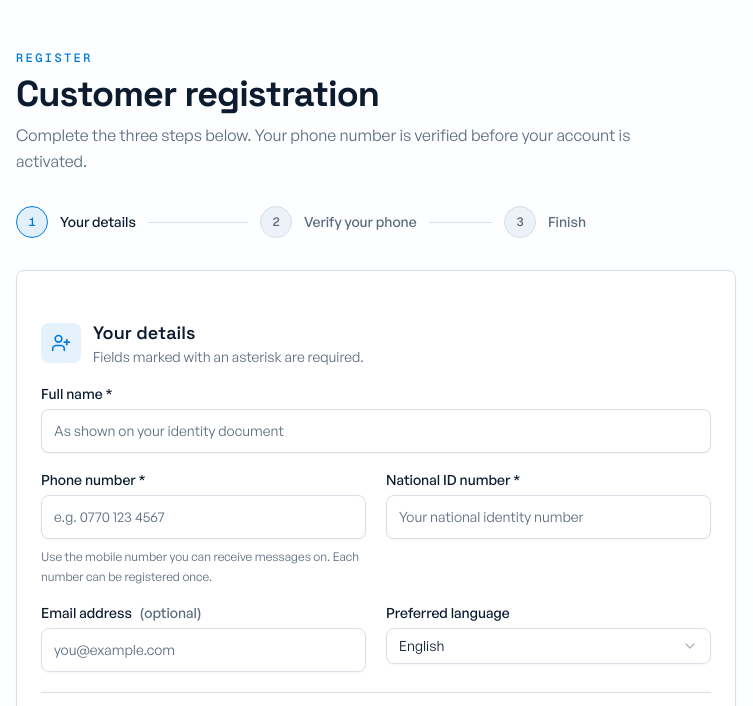
Test: RegisterPage › registers a customer, verifies the code, and completes registration
Type "Ada Lovelace" into the field with test id "register.full_name_input" at [376, 431], box [41, 409, 711, 453]
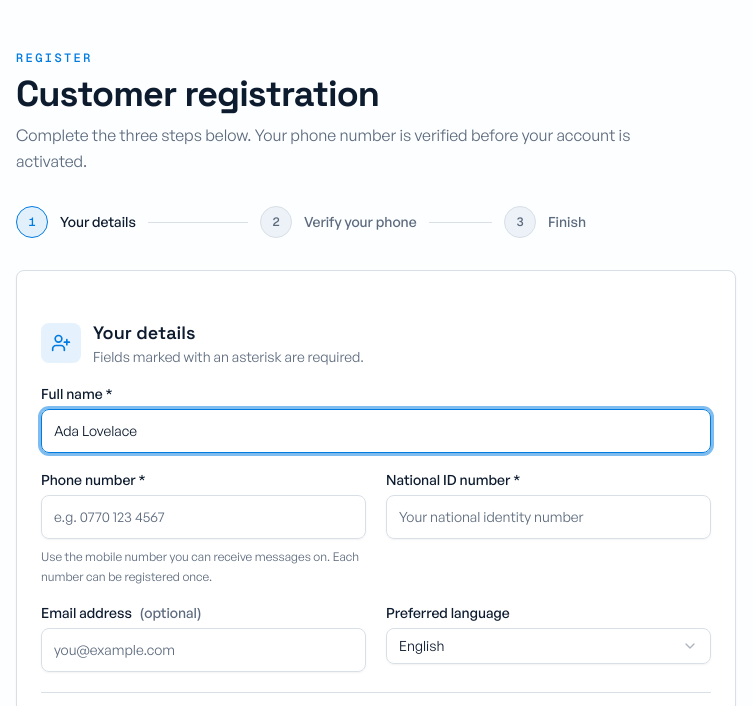
Type "07701234567" into the field with test id "register.phone_input" at [204, 517], box [41, 495, 366, 539]
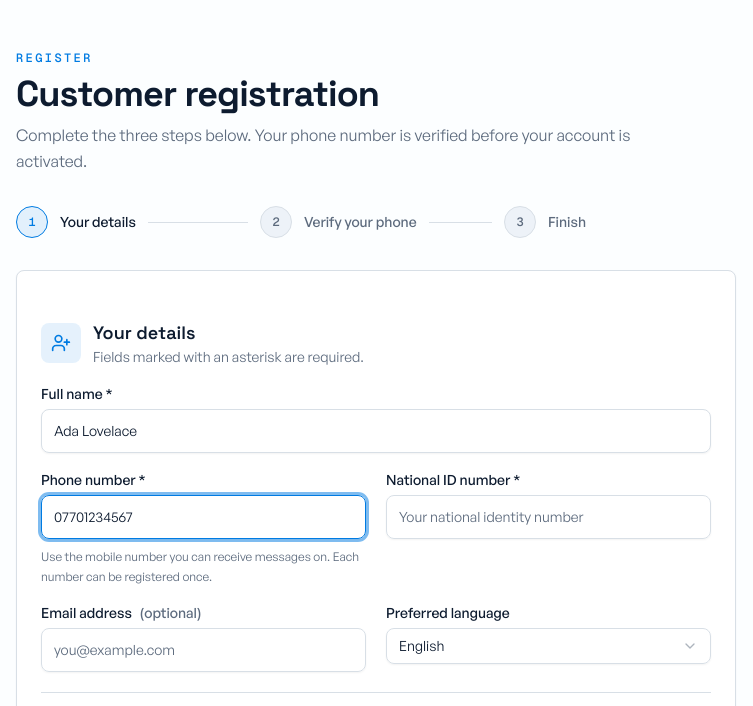
Type "1234567890" into the field with test id "register.national_id_input" at [548, 517], box [386, 495, 711, 539]
(page scrolled)
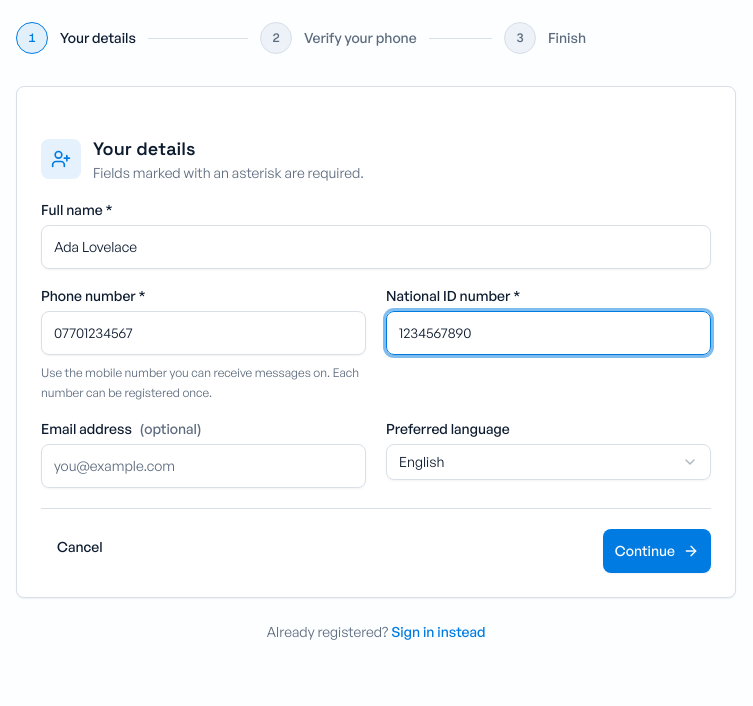
Click the button with test id "register.submit_button" at [657, 551], box [603, 529, 711, 573]
(page scrolled)
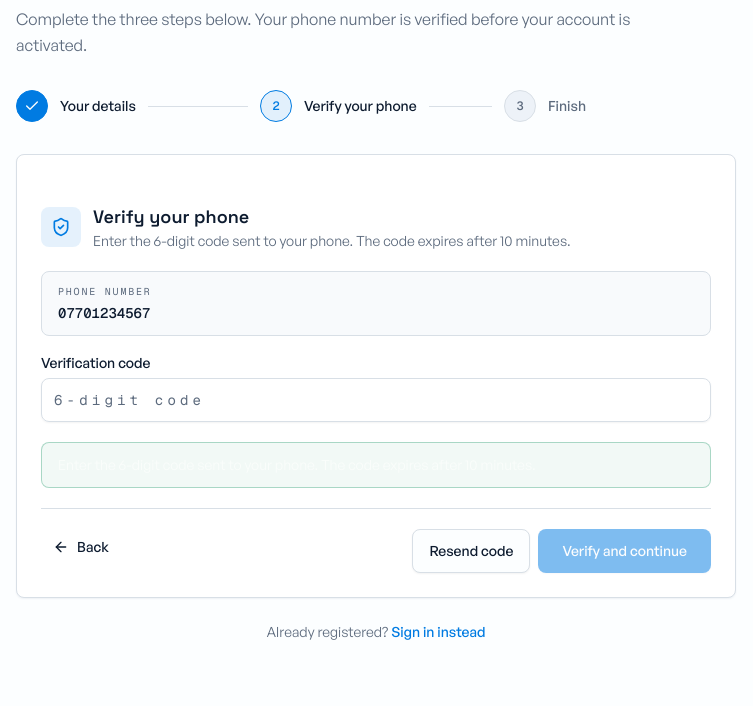
Expected: the field with test id "register.code_input" is shown
Type "123456" into the field with test id "register.code_input" at [376, 400], box [41, 378, 711, 422]
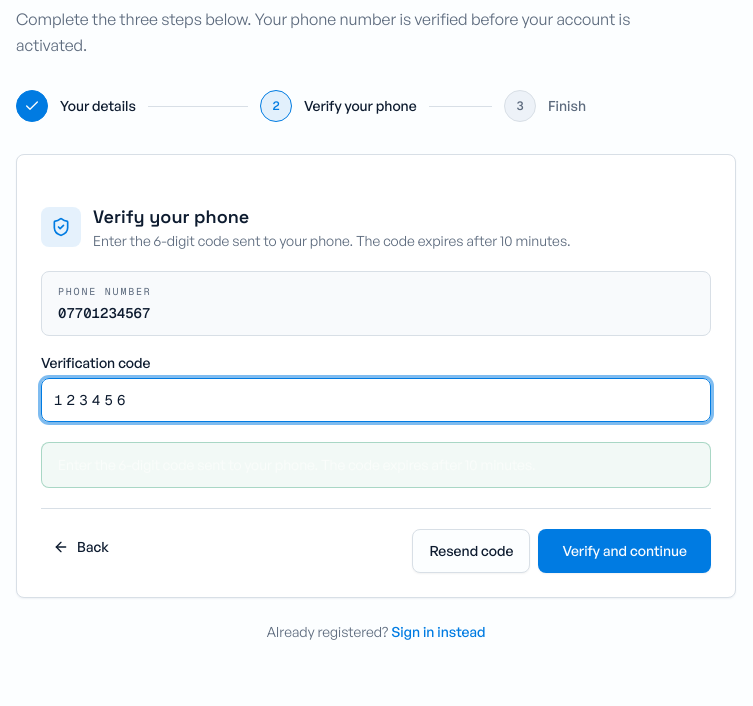
Click the button with test id "register.verify_button" at [625, 551], box [538, 529, 711, 573]
(page scrolled)
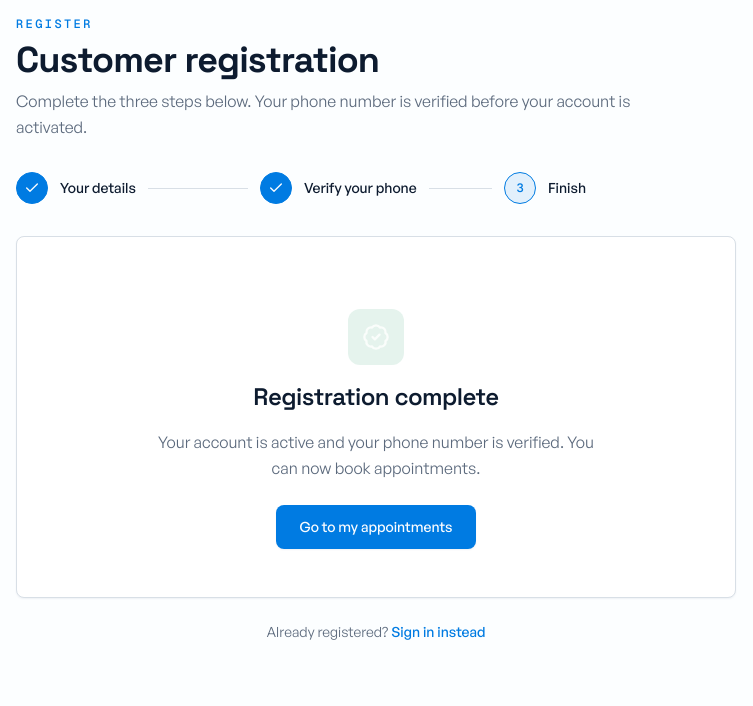
Expected: the element with test id "register.success_state" is shown, [158, 309, 594, 549]
